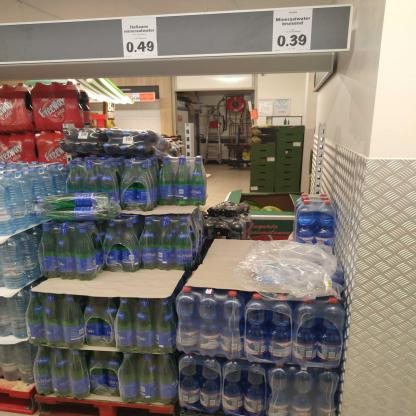prtg: (273, 9, 314, 53), (122, 18, 159, 58)
